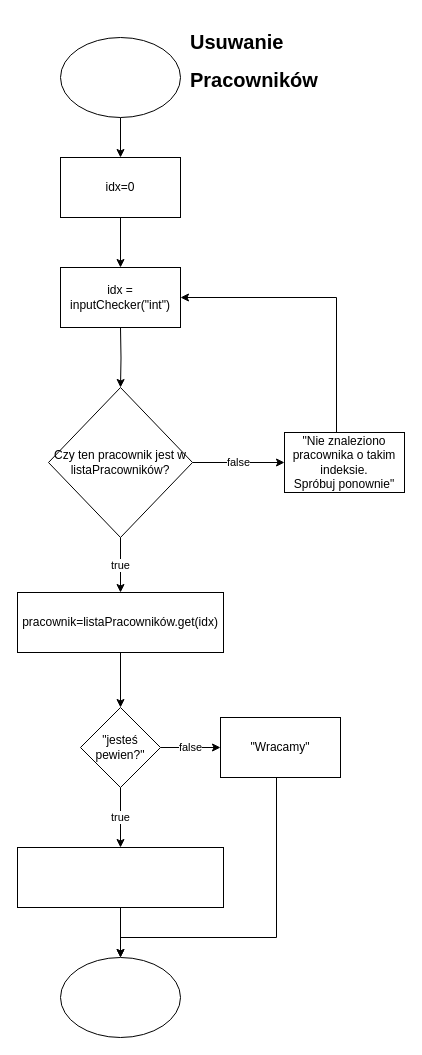
This 422x1055 diagram has some shape labels left out. Here are the shapes that lost their labels. From the top down, the centre of each, then its label:
point (120, 77): START
point (120, 877): listaPracowników.remove(pracownik) "Usunięto"
point (120, 997): END Powrót do menu
